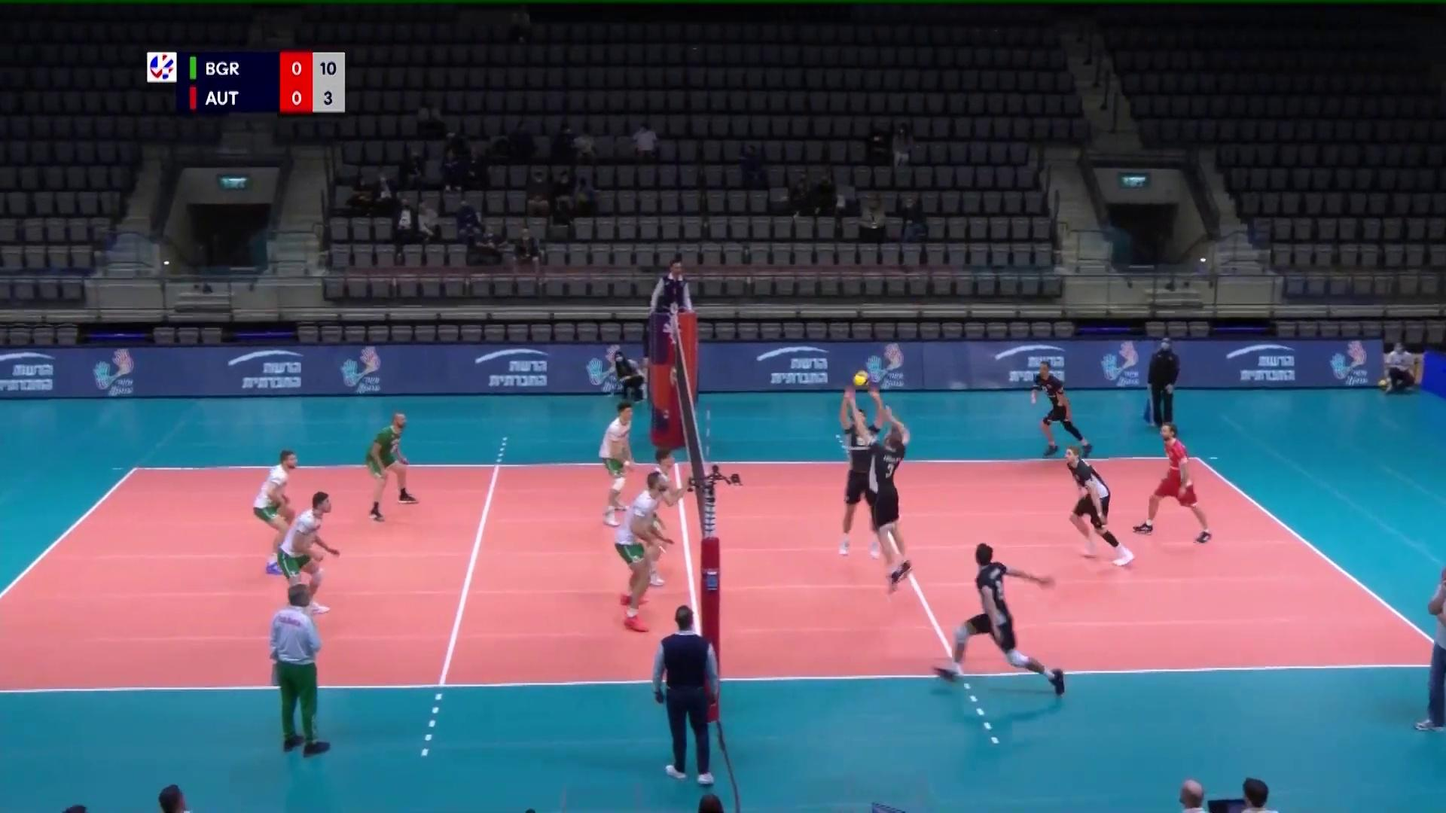ball: (852, 370, 873, 391)
